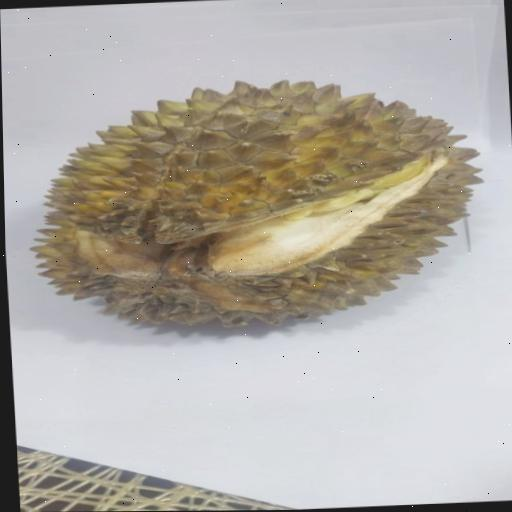rot: (1, 60, 501, 368)
